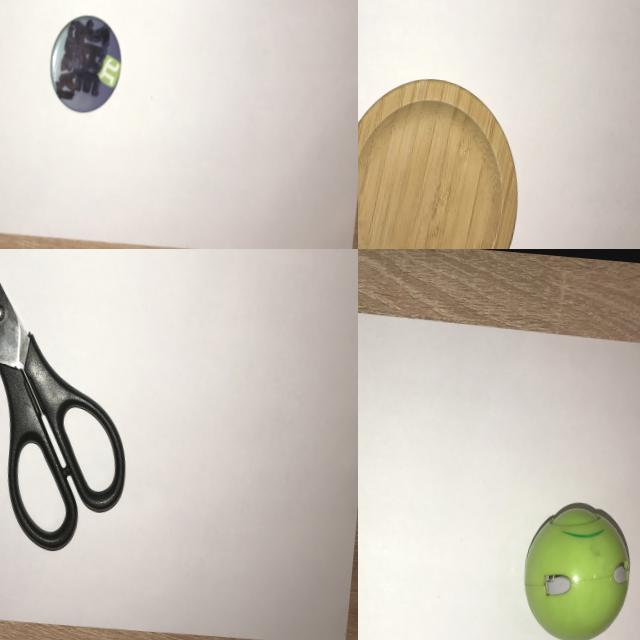cup_holder: (358, 63, 536, 249)
icon: (36, 8, 130, 124)
scissors: (0, 249, 156, 565)
toy: (509, 487, 640, 640)
